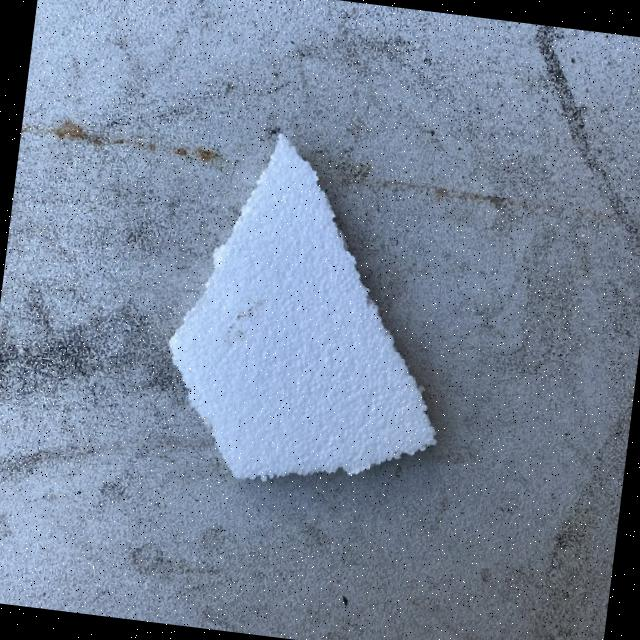styrofoam: (150, 120, 472, 503)
